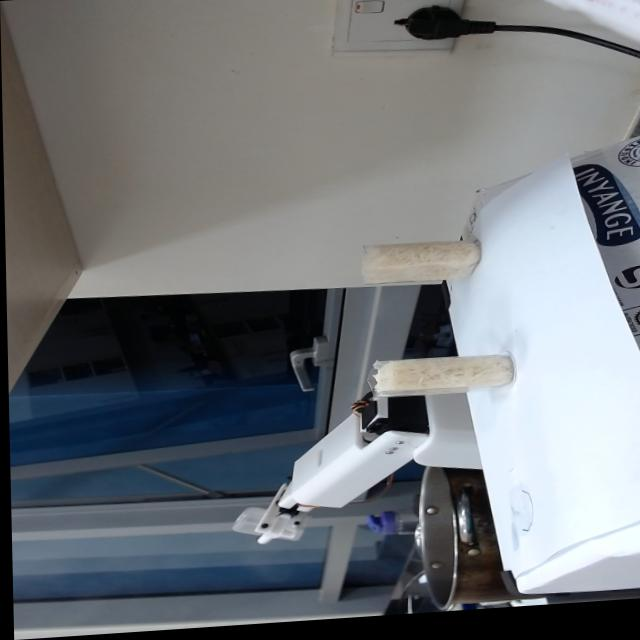cooking_pot: (413, 465, 548, 614)
raw_rice: (370, 361, 512, 402), (360, 242, 478, 290)
